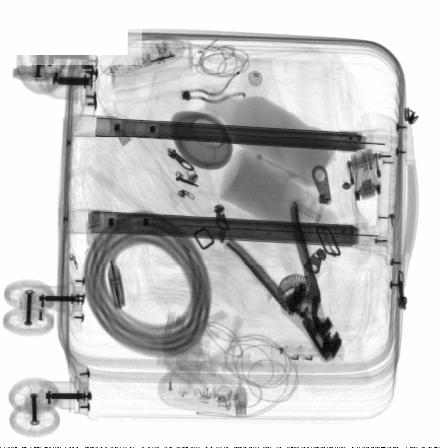Pliers: (225, 202, 343, 361)
